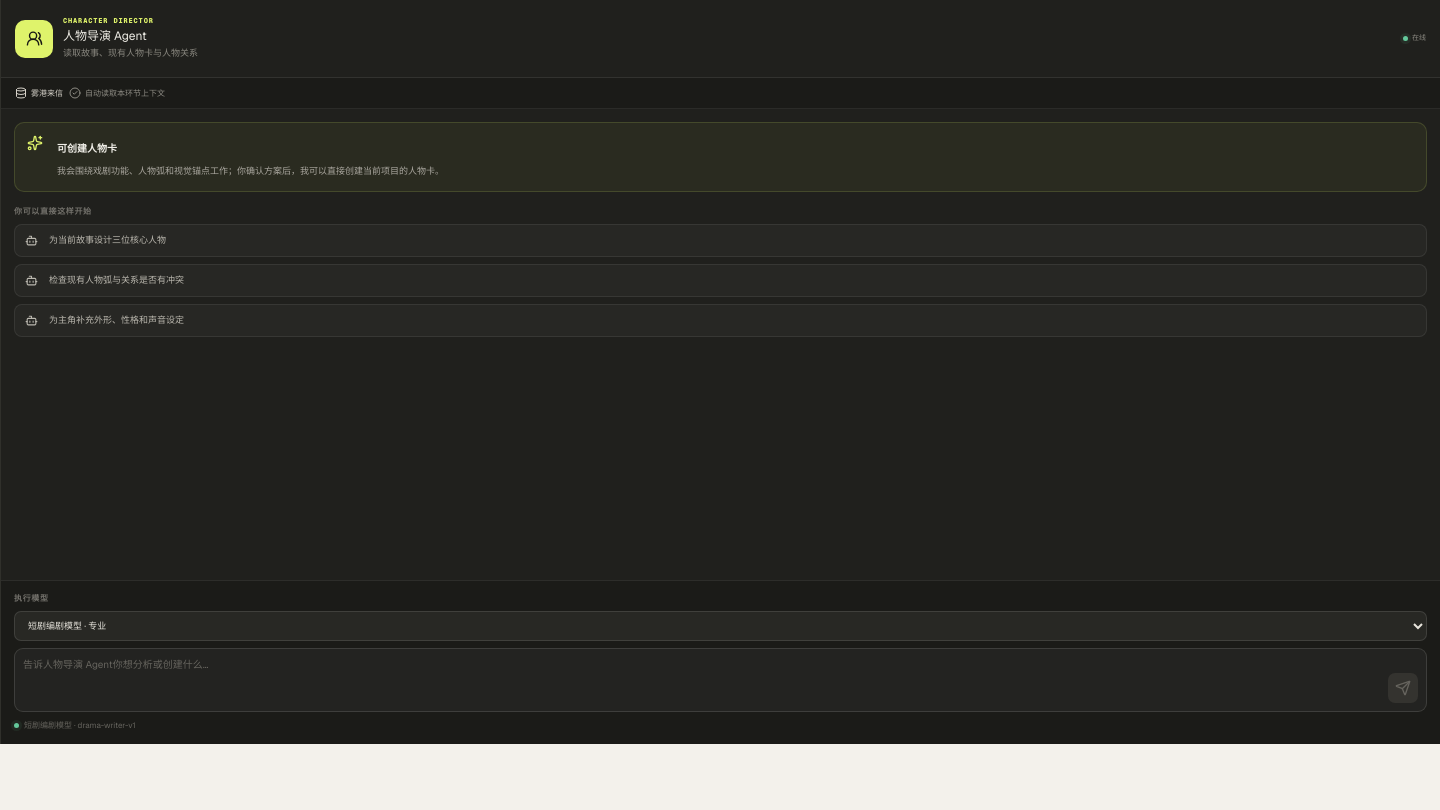
Test case: 制作环节定制 Agent › 对话生成结构化建议，确认后由服务端写入项目并刷新页面数据
In the text box with placeholder "告诉人物导演 Agent你想分析或创建什么…": (702, 680) [23,656,1381,703], type "为当前故事创建一位核心人物"
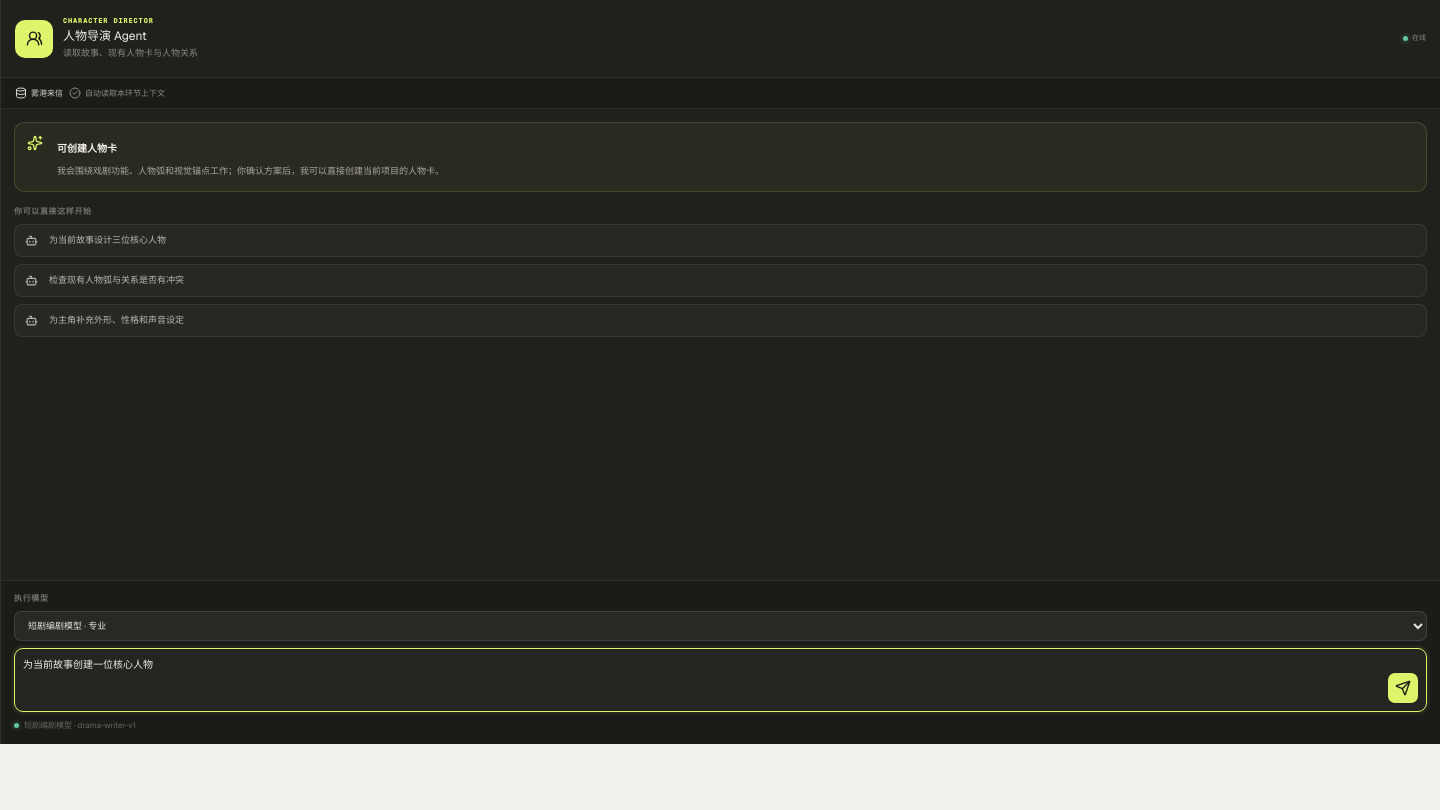
Click the button named "发送给 Agent": (1403, 688) [1388,673,1418,703]
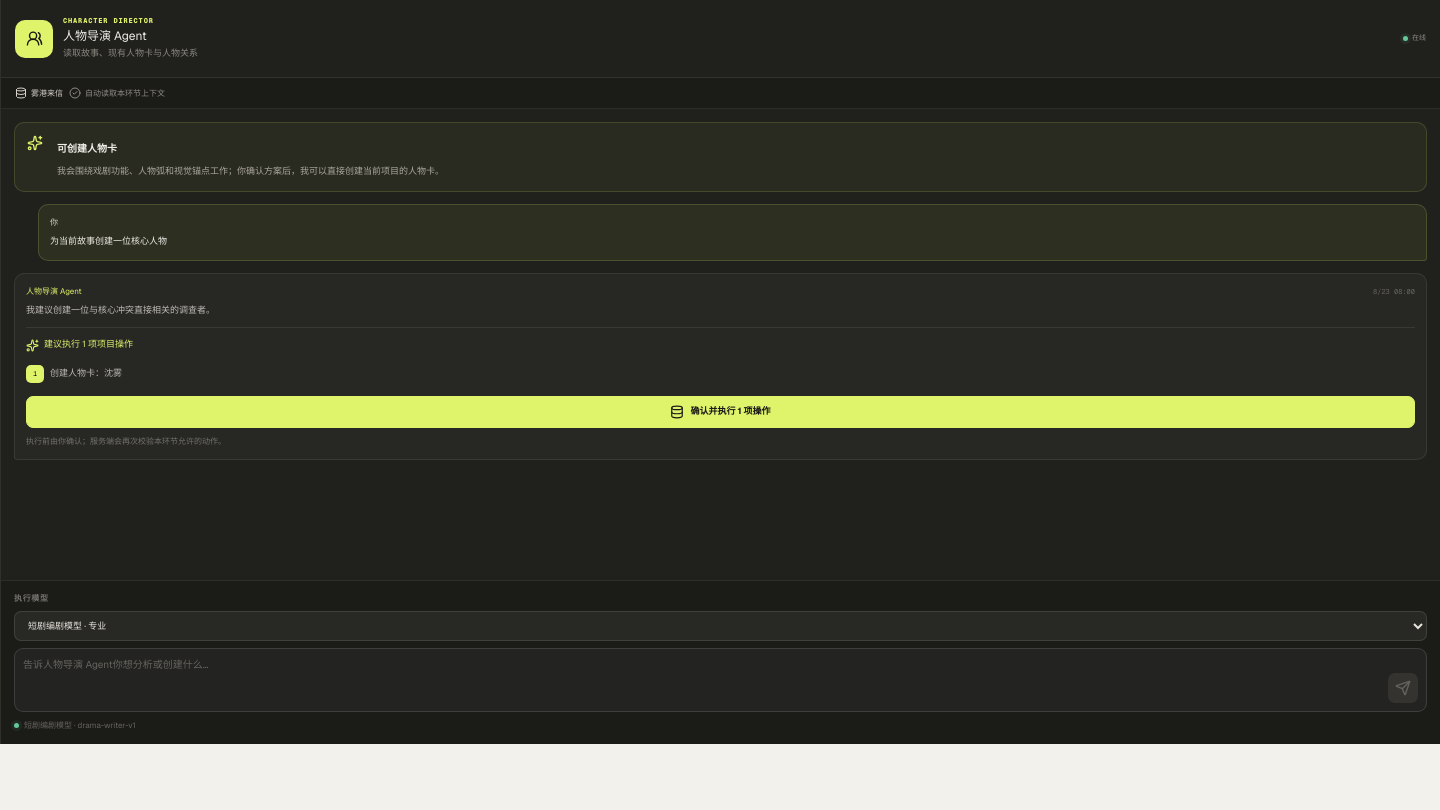
expect the text "我建议创建一位与核心冲突直接相关的调查者。" is shown: met, box [26,304,215,316]
expect the text "创建人物卡：沈雾" is shown: met, box [50,367,122,379]
Click the button "确认并执行 1 项操作": (720, 412) [26,396,1415,428]
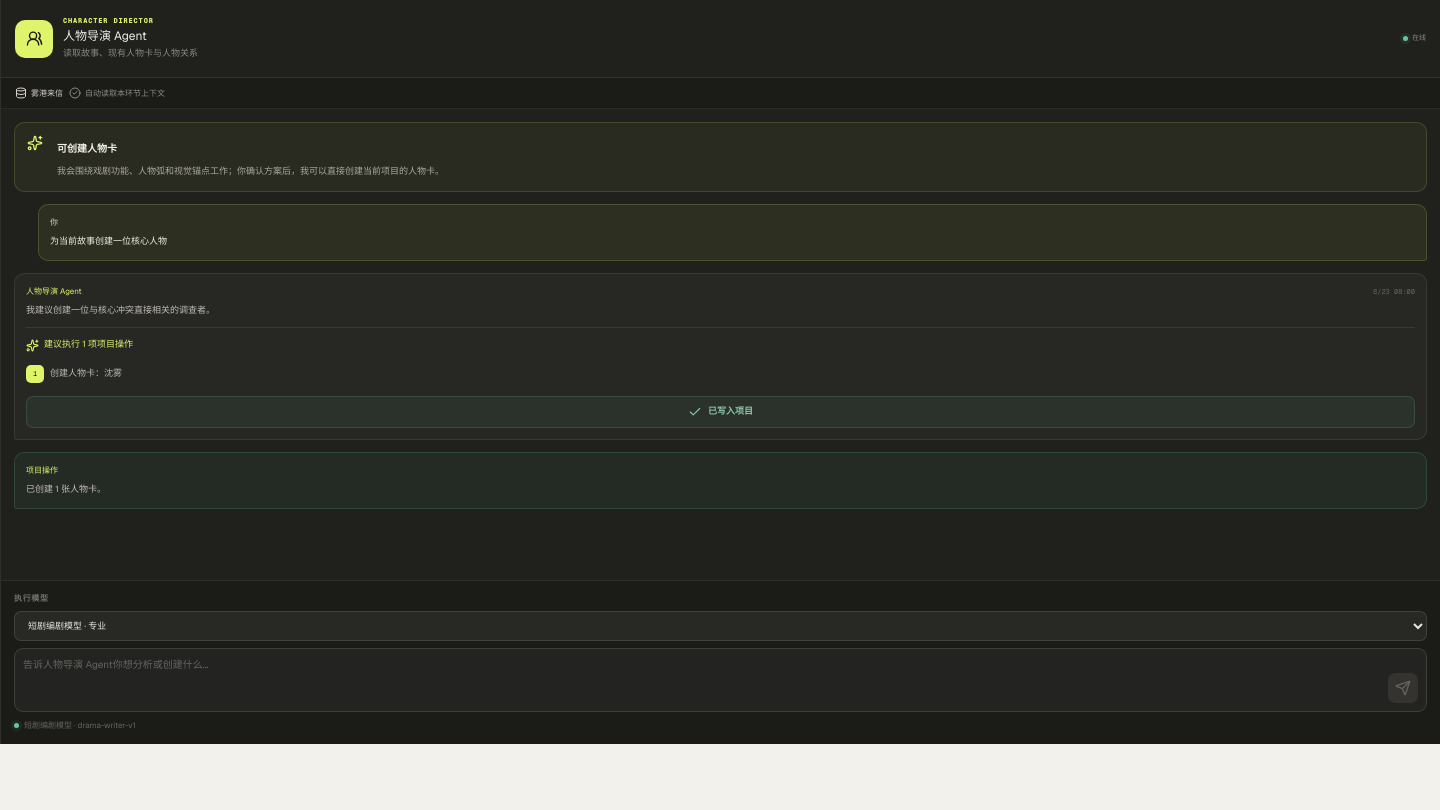
expect the text "已创建 1 张人物卡。" is shown: met, box [26,482,106,497]
expect the button "已写入项目" is disabled: met, box [26,396,1415,428]
